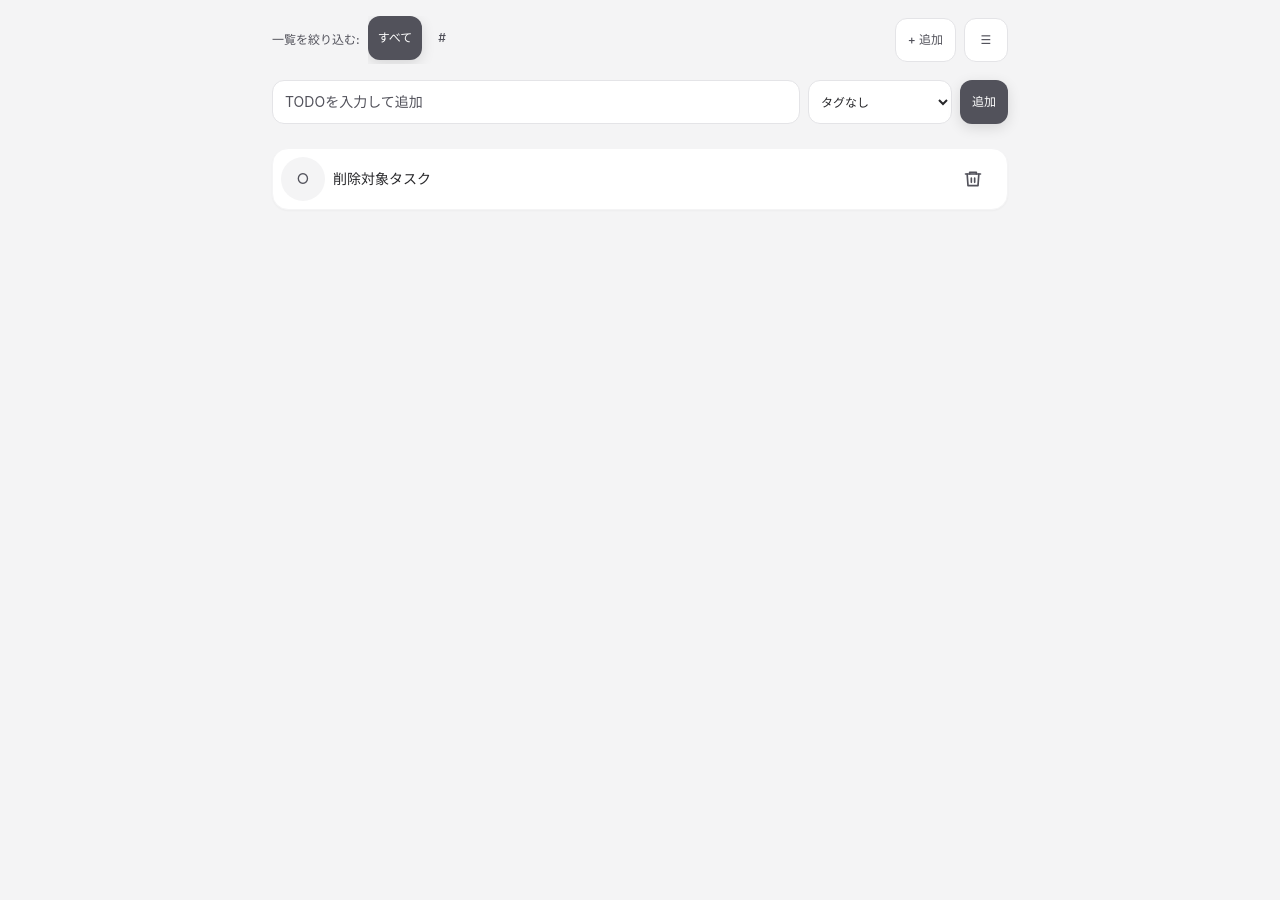
it: TodoListPage › opens the delete confirm dialog for the clicked todo
Step 1. Click the button named "「削除対象タスク」を削除" → (977, 179), box [955,157,999,201]
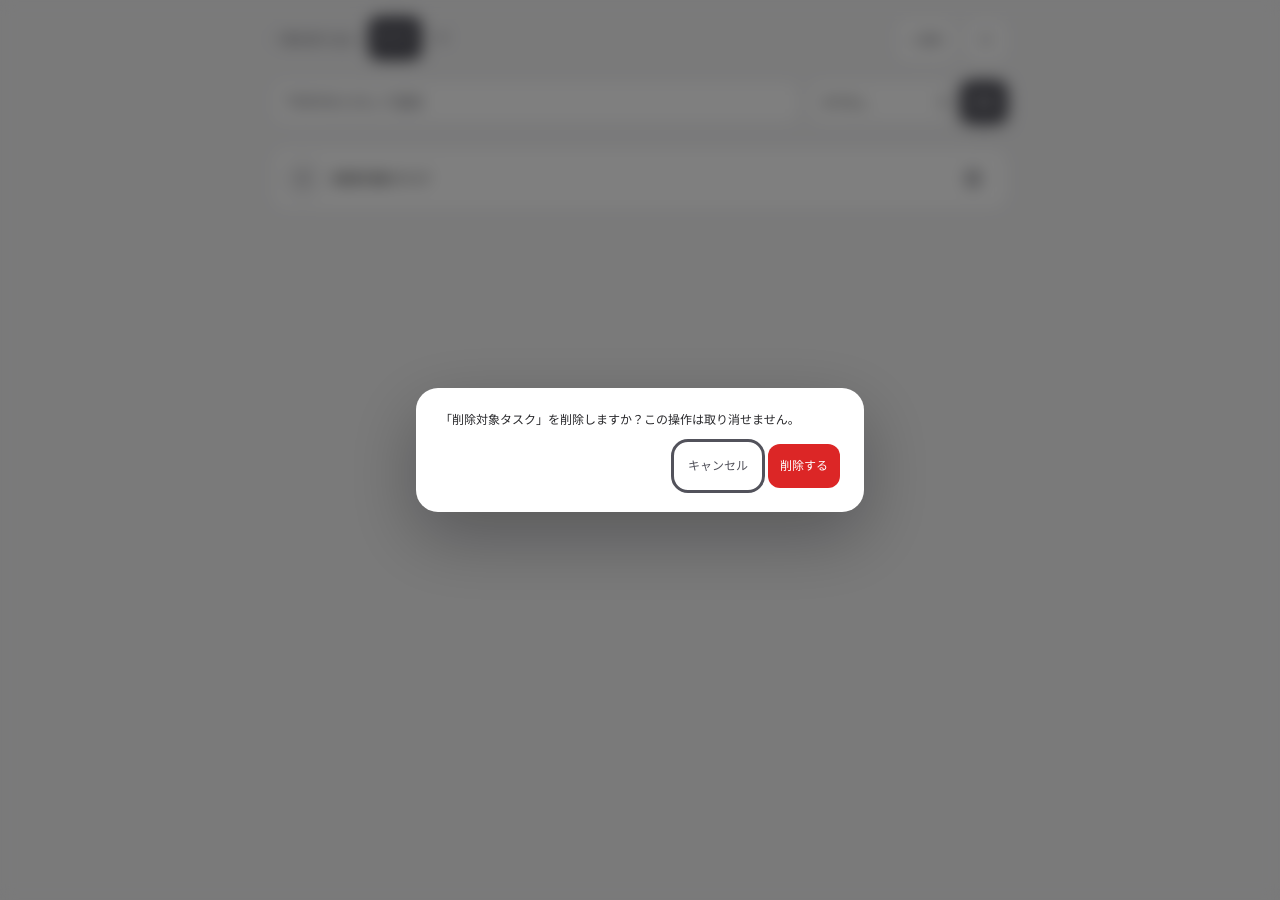
Now the dialog named "TODOを削除" is shown, box [416,388,864,512]
Now the text "「削除対象タスク」を削除しますか？この操作は取り消せません。" is shown, box [440,412,840,428]
